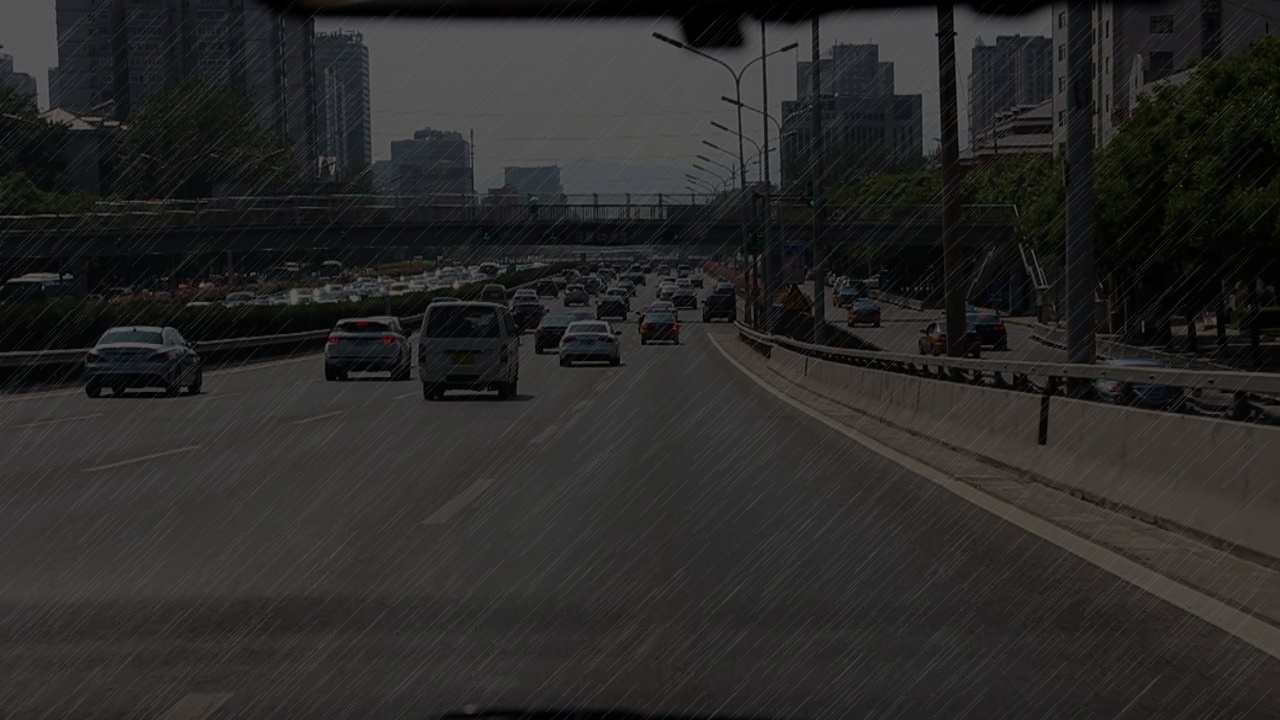Warning Signs: (778, 281, 813, 314)
